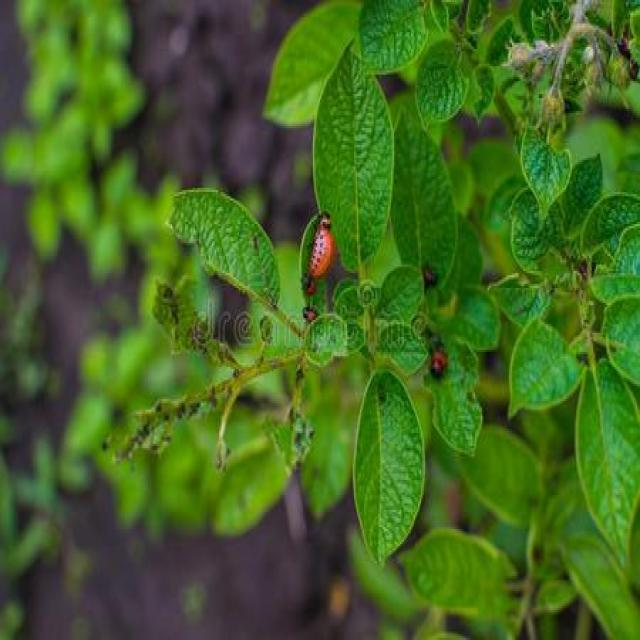ShuCaiHuaBanChong-Larva-: (296, 209, 348, 279)
